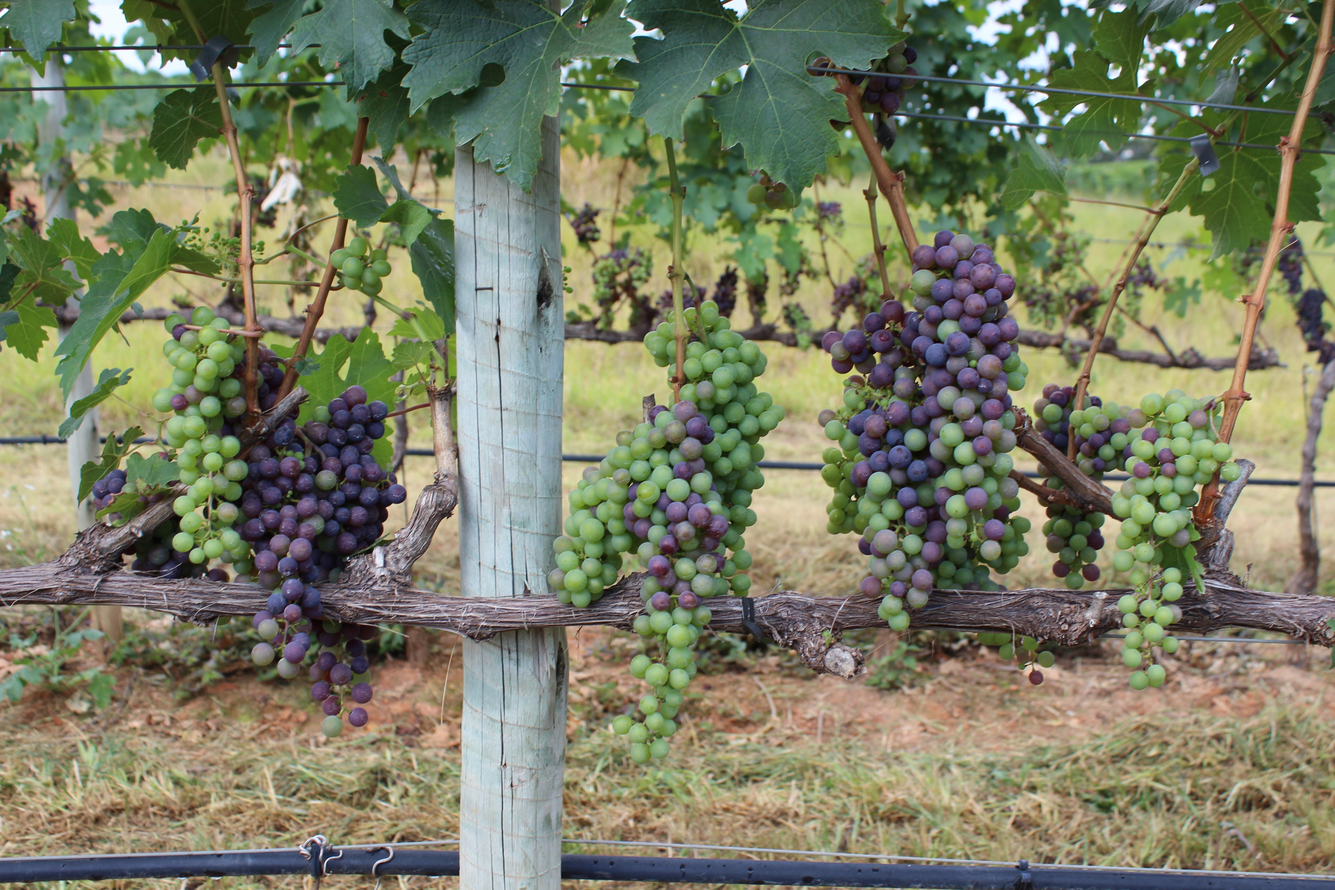leaf: (619, 0, 905, 188), (403, 0, 635, 191), (56, 230, 177, 399), (292, 0, 409, 95), (1051, 8, 1153, 95), (1042, 93, 1141, 158), (149, 85, 222, 169), (409, 218, 455, 333), (58, 368, 133, 438), (1000, 136, 1067, 210), (78, 426, 143, 502), (0, 0, 76, 63), (247, 0, 305, 66), (333, 165, 389, 228), (47, 218, 101, 281), (4, 300, 57, 361), (126, 452, 179, 493), (711, 0, 713, 2), (6, 313, 8, 314), (62, 434, 63, 434)
